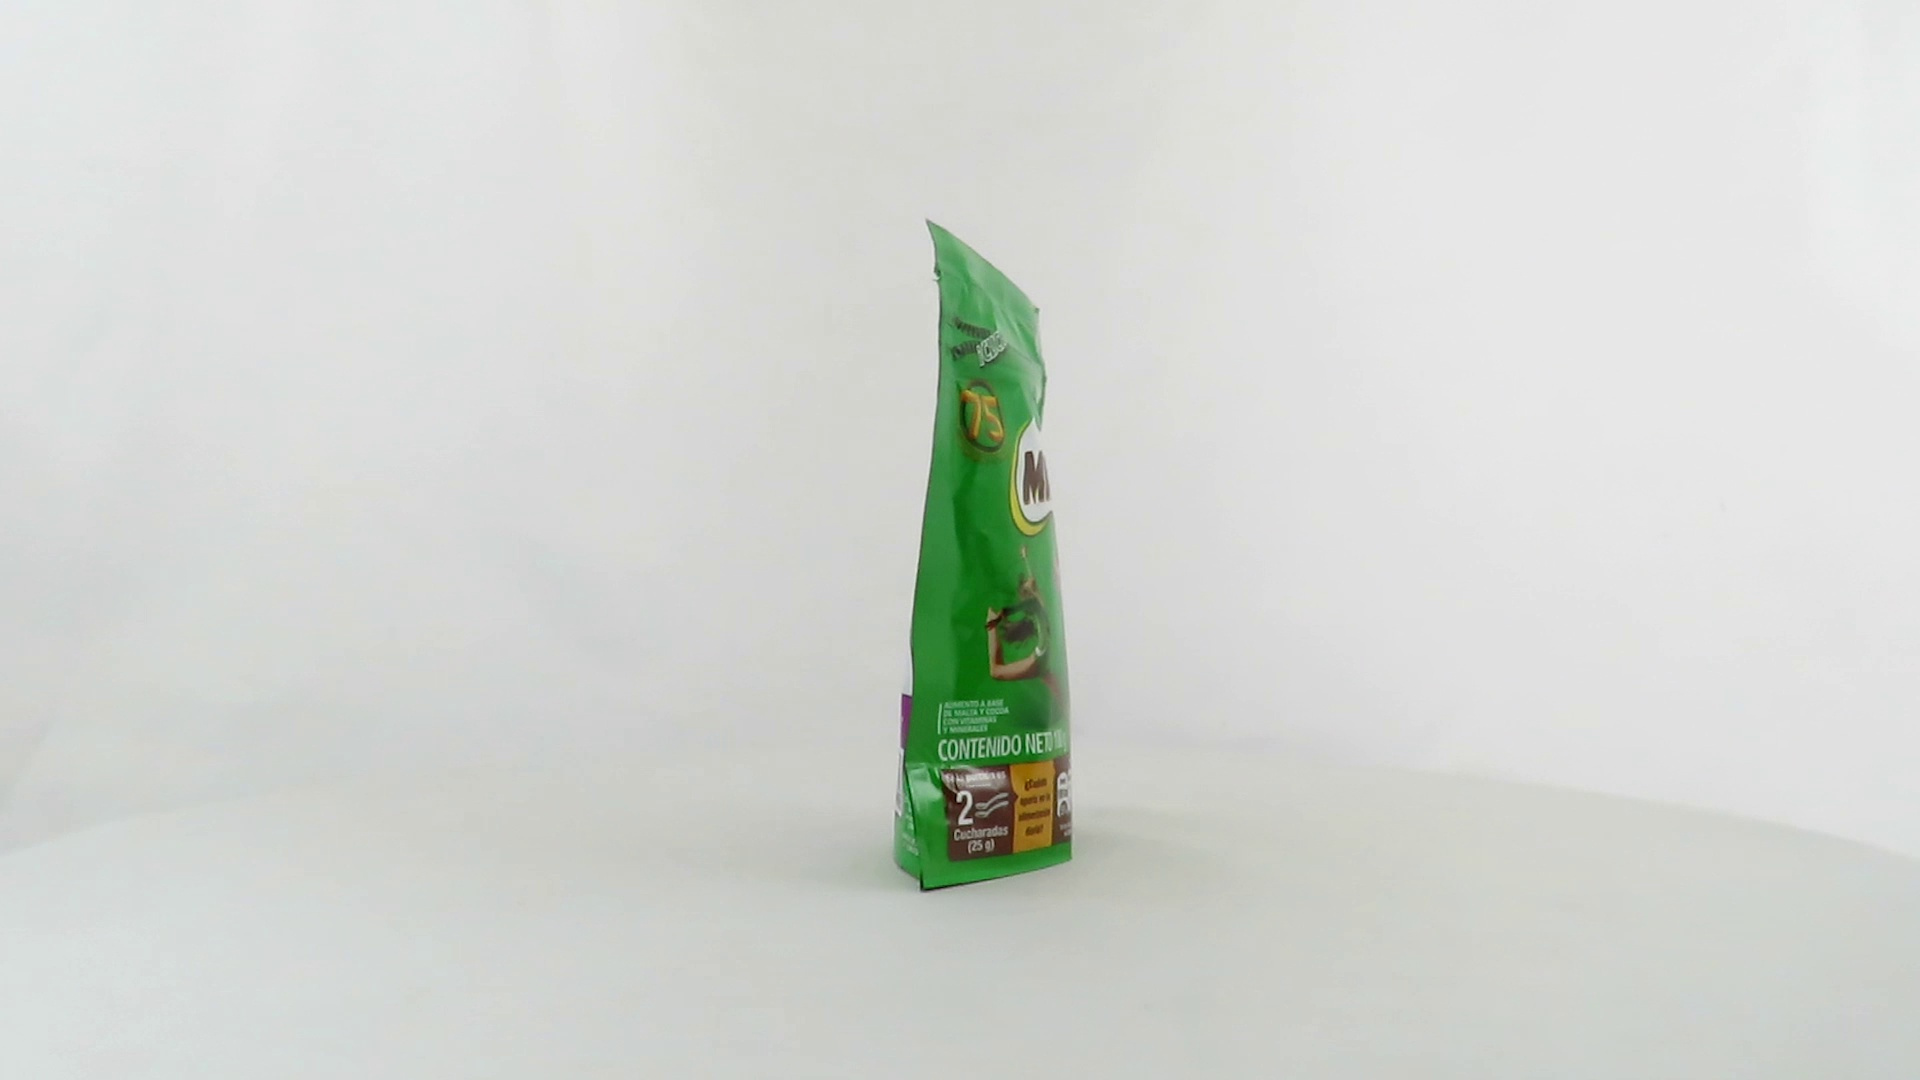COL0170203DYP10000: (887, 214, 1079, 899)
